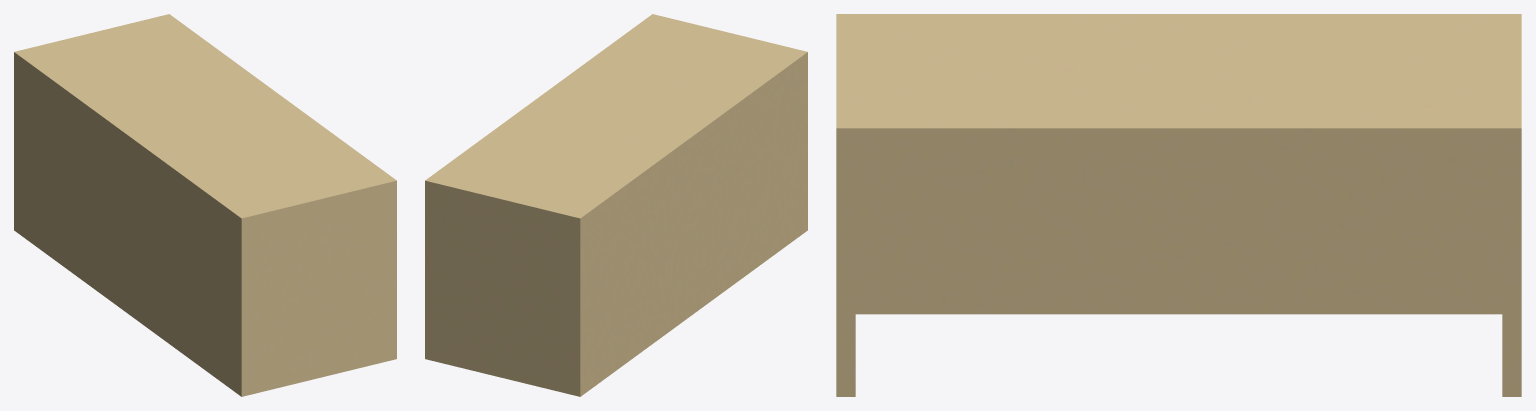
File: Medical_Desk.fbx
3 renders of one model, left to right at view 1: azimuth 30°, elevation 25°; view 2: azimuth 150°, elevation 25°; view 3: azimuth 270°, elevation 25°, orthographic. The views are drawn at different scales.
Parts seen in each view (by area): view 1: Medical_Desk; view 2: Medical_Desk; view 3: Medical_Desk.
Part boxes in pixels (x1,y1,x2,y2): Medical_Desk: (14,14,396,396); Medical_Desk: (425,14,807,396); Medical_Desk: (836,14,1521,396).
Bounding box in the file's own units: 239 × 263 × 607.
